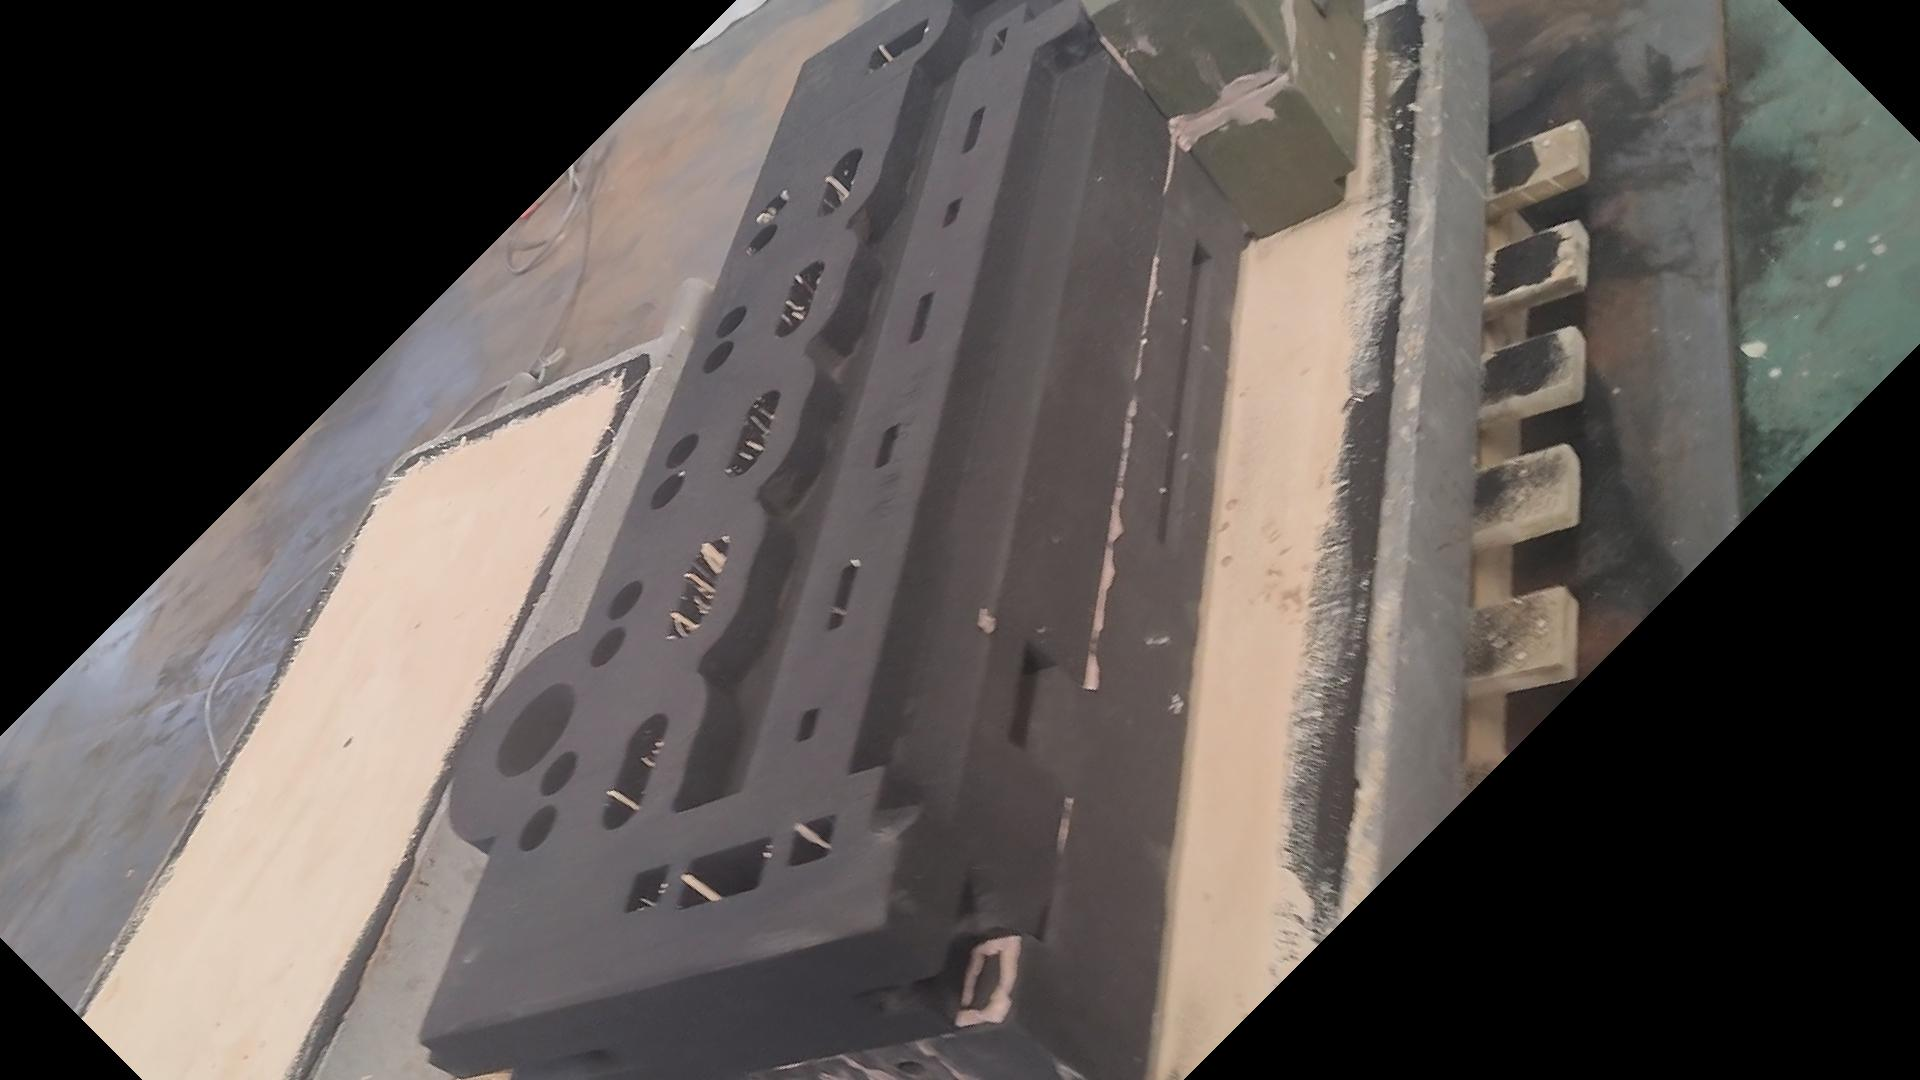pouring hole: (495, 683, 576, 777)
